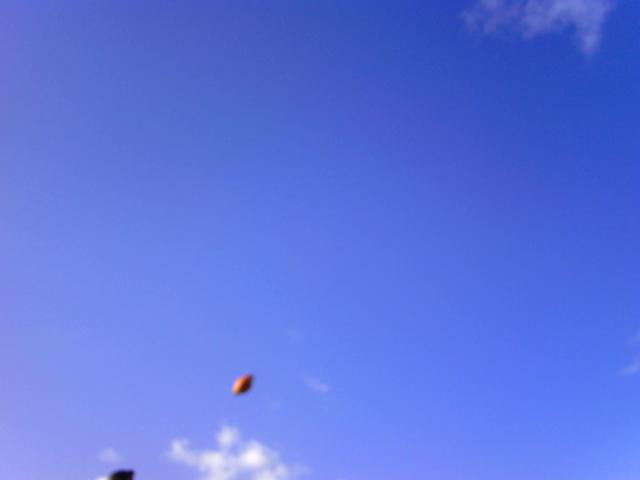football: (231, 370, 260, 405)
